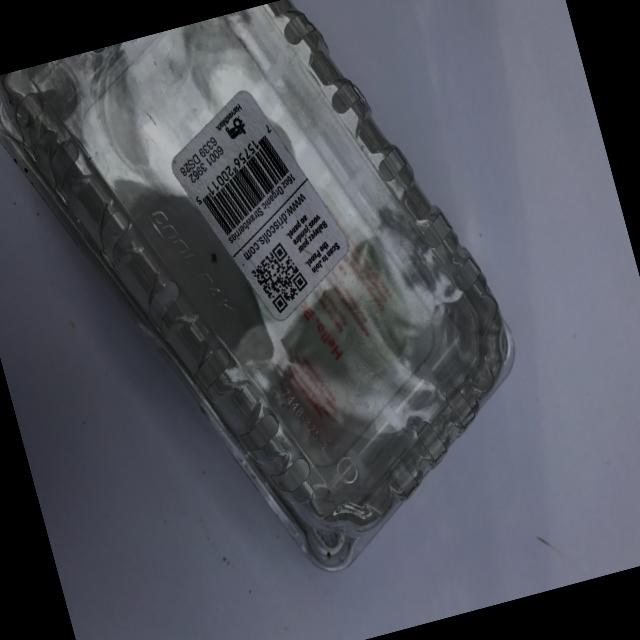Plastic: (0, 0, 556, 638)
